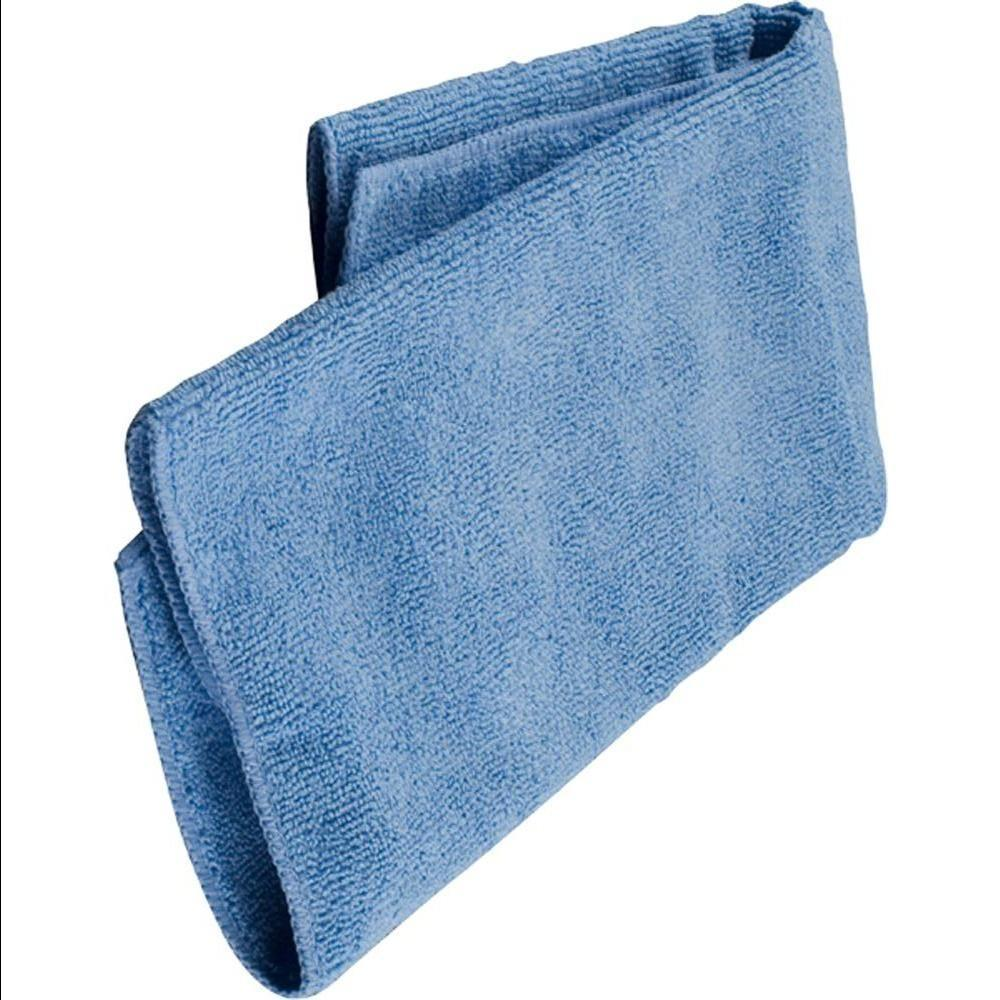towel: (20, 0, 925, 1000)
